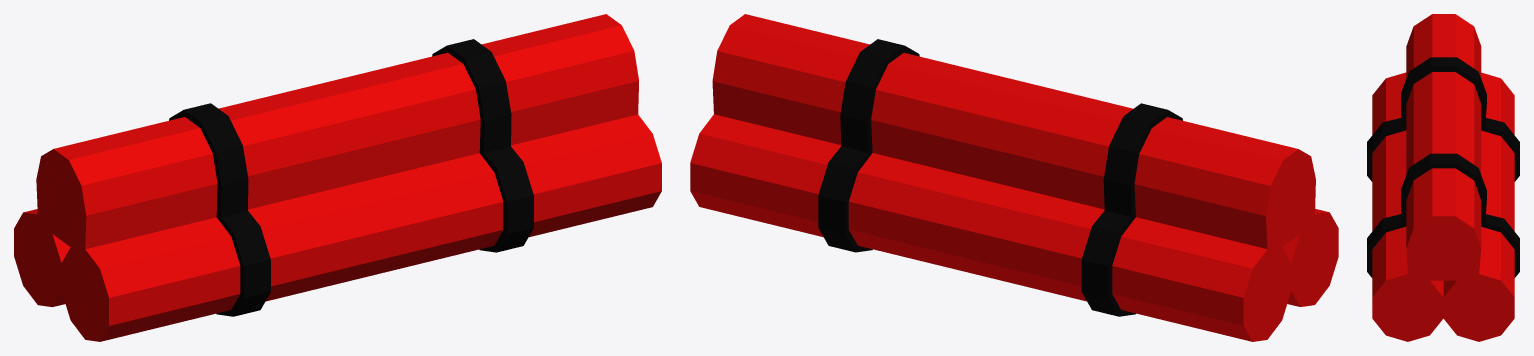
File: TNT.fbx
The picture shows the model from 3 angles, left to right: view 1: azimuth 30°, elevation 25°; view 2: azimuth 150°, elevation 25°; view 3: azimuth 270°, elevation 25°; orthographic projection. The views are drawn at different scales.
Visible parts, largest first — view 1: TNT; view 2: TNT; view 3: TNT.
Part boxes in pixels (left/top/right/bottom): TNT: left=14, top=14, right=661, bottom=341; TNT: left=690, top=14, right=1338, bottom=341; TNT: left=1367, top=14, right=1519, bottom=341.
Bounding box in the file's own units: 2.93 × 0.9158 × 0.9366.
